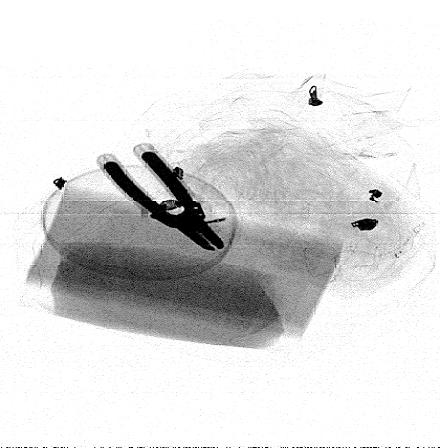Pliers: (99, 147, 227, 254)
